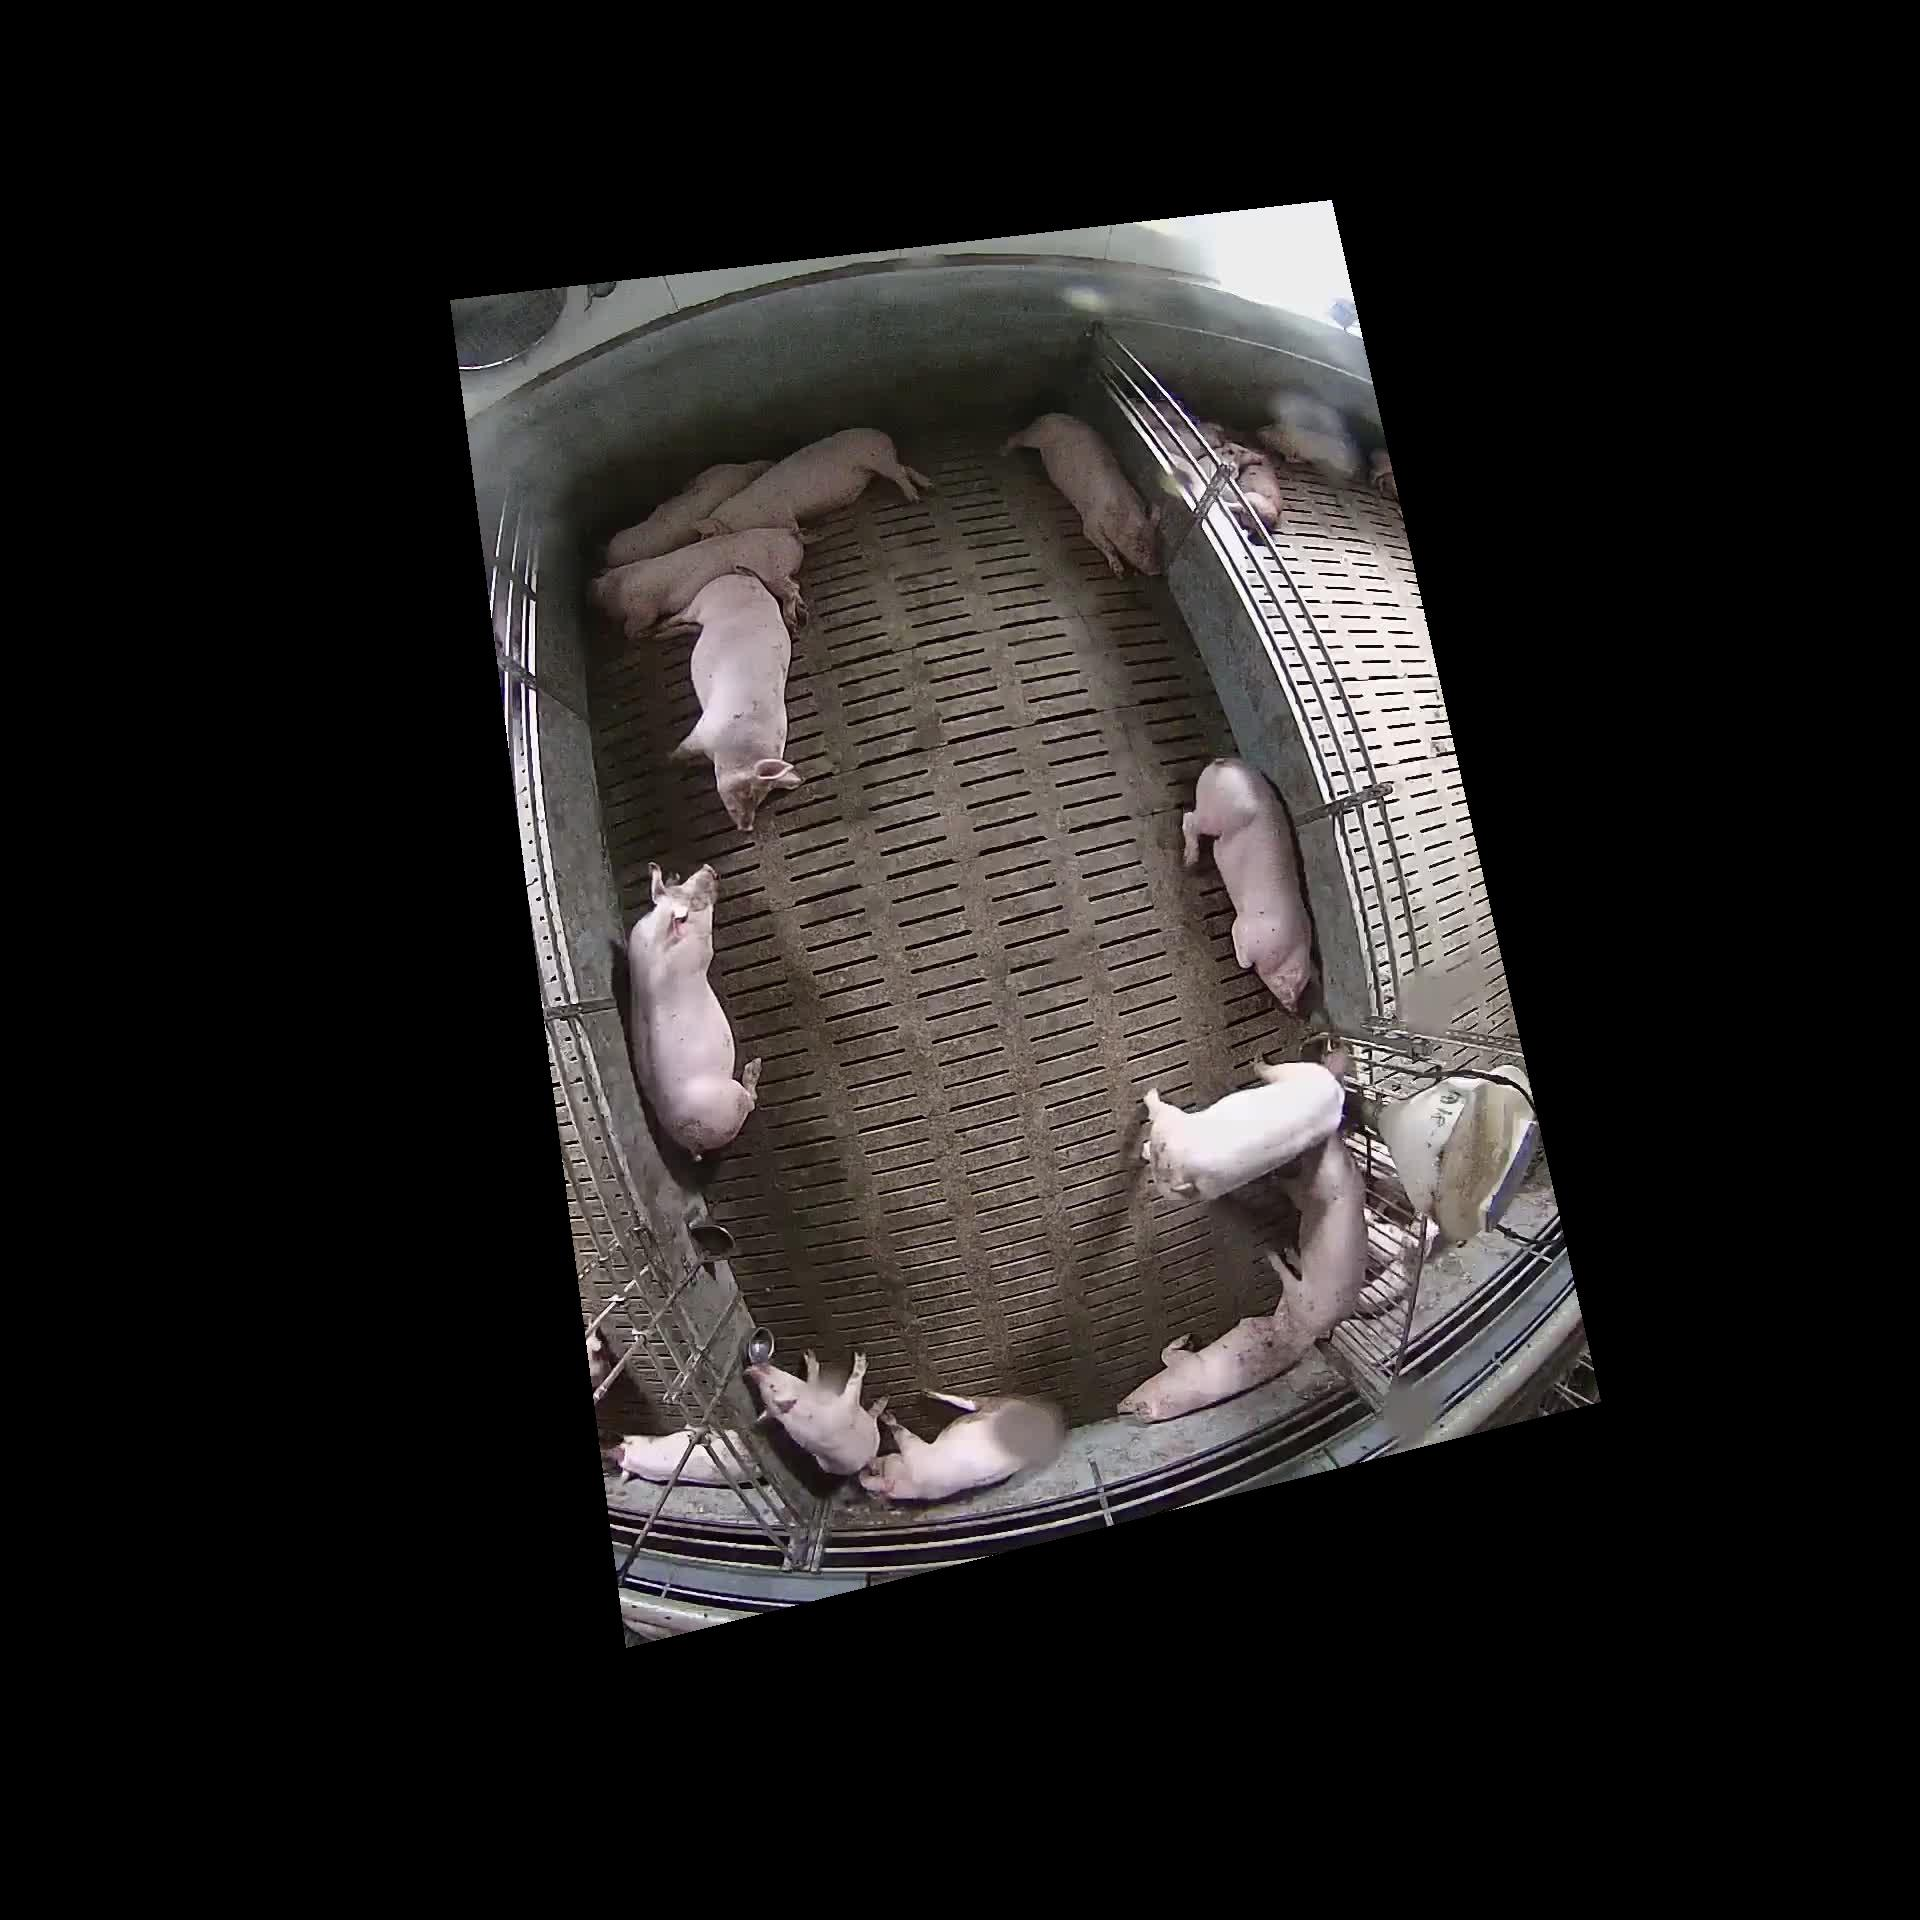pig: (622, 863, 761, 1162), (1176, 745, 1312, 1007), (665, 568, 798, 830), (1143, 1060, 1340, 1203), (695, 427, 927, 533), (1006, 413, 1157, 573), (591, 529, 802, 633), (1116, 1306, 1312, 1417), (858, 1400, 1065, 1496), (1275, 1131, 1364, 1336), (600, 461, 768, 564), (745, 1350, 876, 1472)
